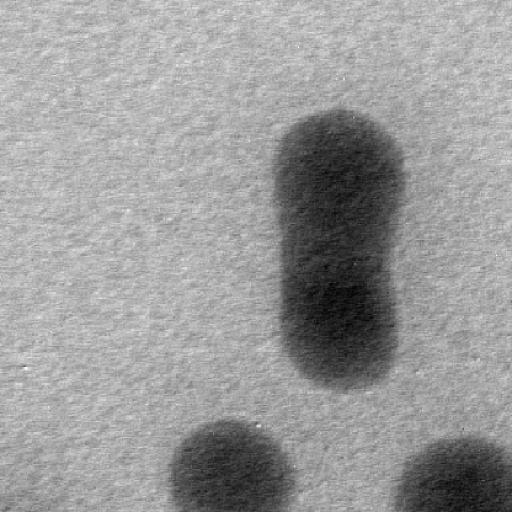Nanoparticles: (270, 230, 402, 389), (275, 108, 410, 236), (166, 416, 312, 512), (393, 428, 512, 512)
